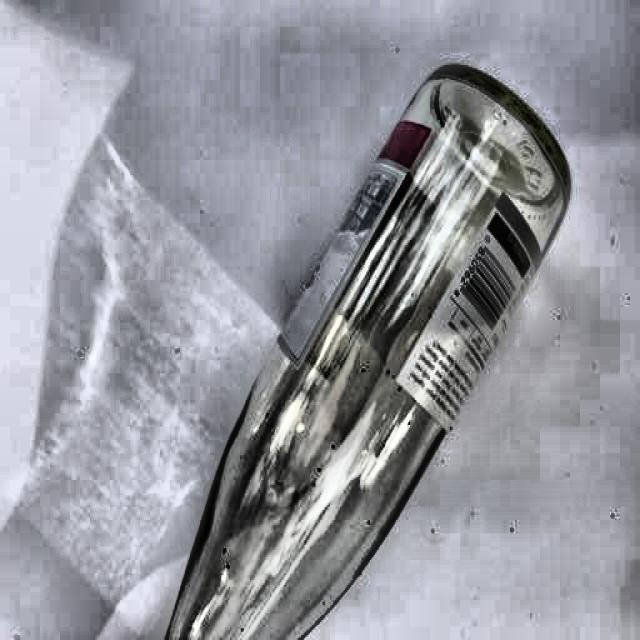glass: (168, 54, 576, 640)
